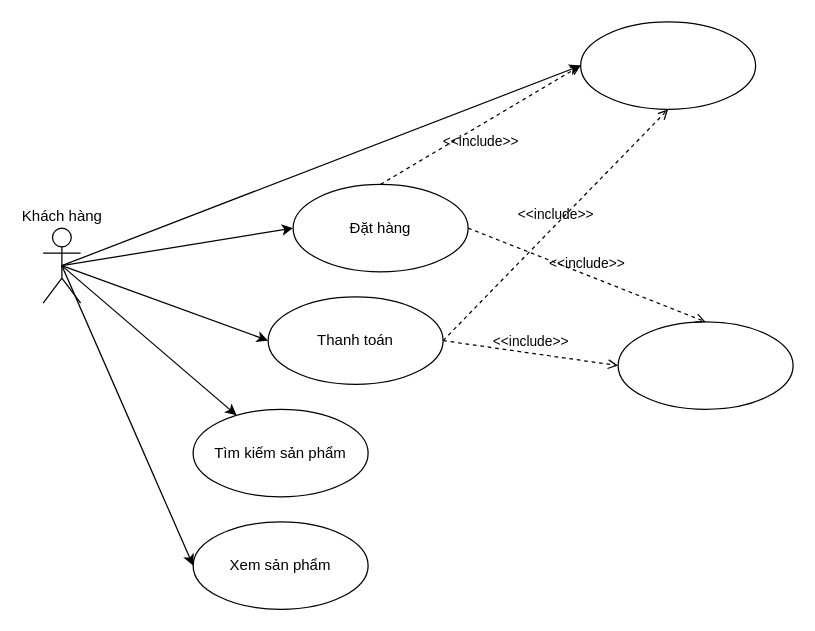
This 815x631 diagram has some shape labels left out. The shapes that lost their labels are listed below. From the top down, each one's box as (x1, y1, x2, y2) in pixels, then its label:
(579, 21, 756, 109): Đăng nhập
(617, 321, 793, 409): Thêm vào giỏ hàng
